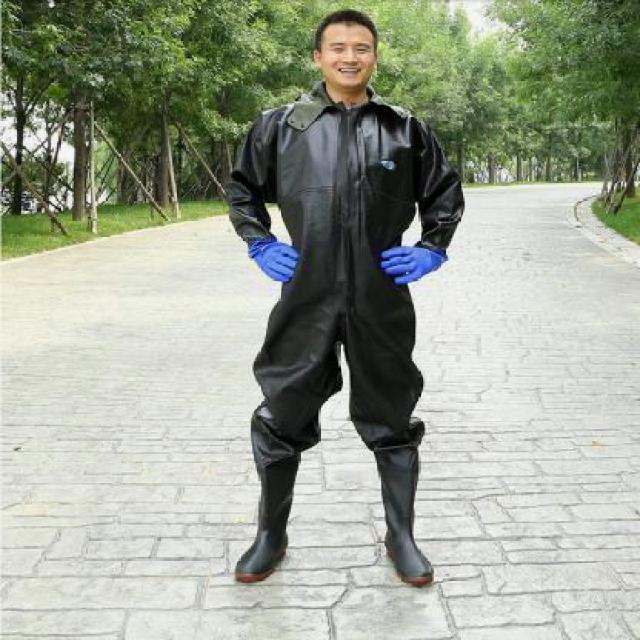boots: (362, 446, 446, 592), (233, 432, 299, 579)
face_nomask: (318, 26, 377, 86)
hand_glove: (380, 242, 445, 284), (256, 238, 298, 282)
head_nohelmet: (319, 8, 383, 34)
person: (237, 6, 465, 605)
